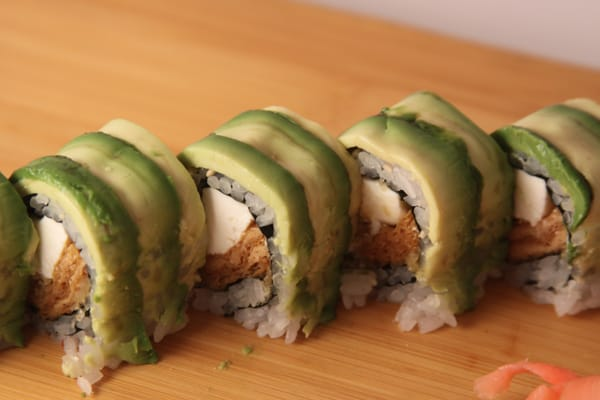pasta: (178, 106, 359, 344)
